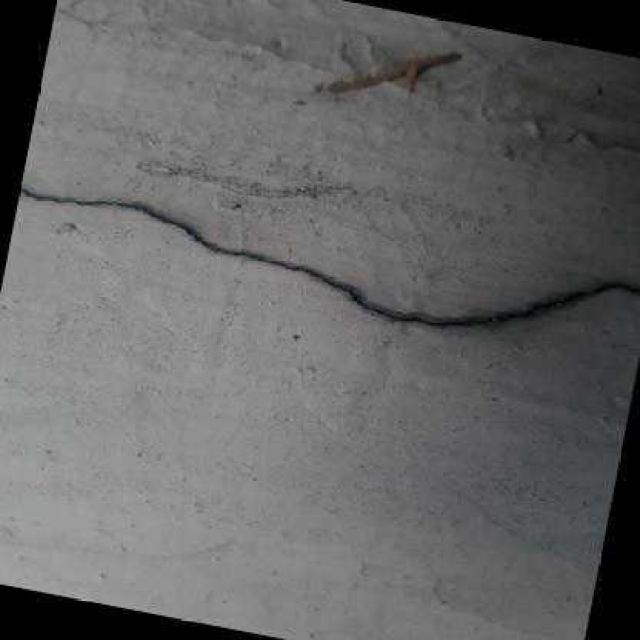D00: (19, 185, 640, 324)
